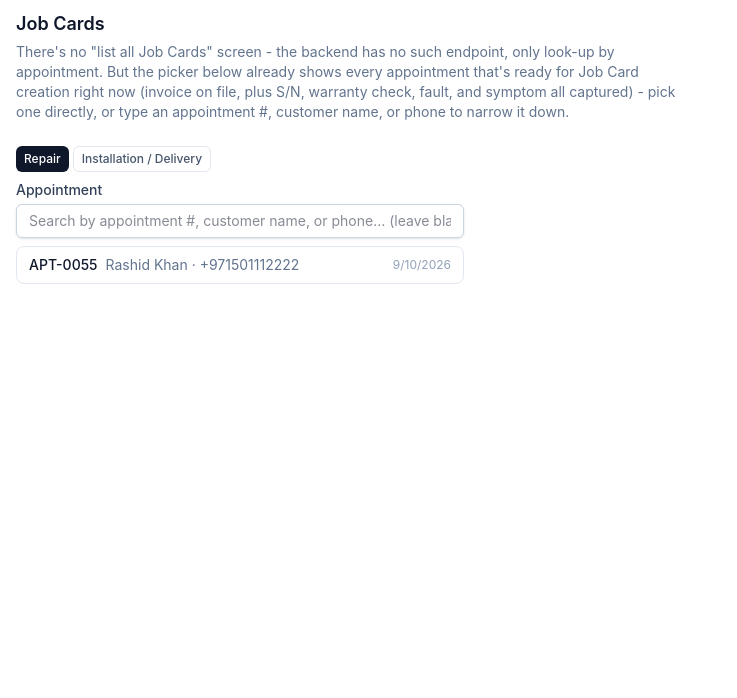
Test: JobCardsPage - Warranty Override capability gate › shows the Warranty Override card for a role granted JOB_CARD_WARRANTY_OVERRIDE via Designation access, not just a default role
Click the text "APT-0055" at (63, 264), box [29,256,98,273]
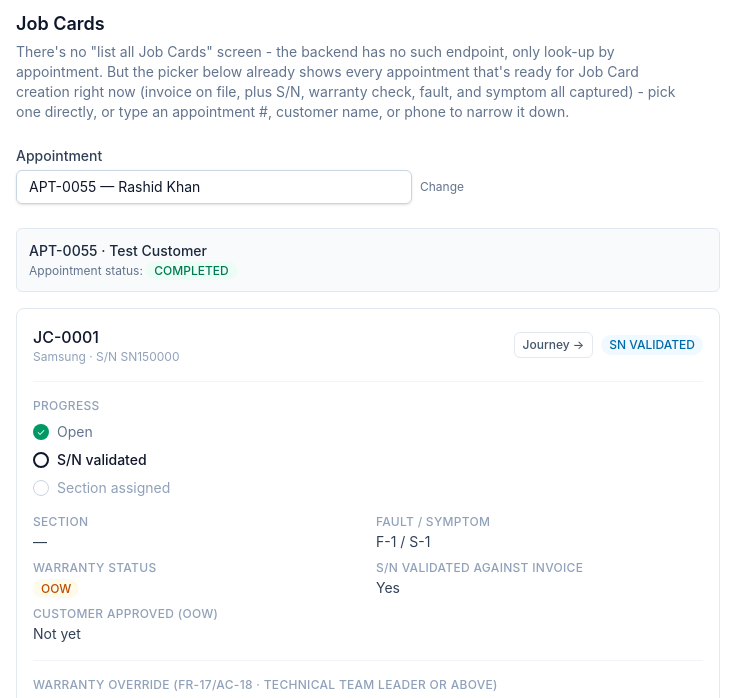
expect the text "Warranty Override" is shown: met, box [33,677,498,692]
